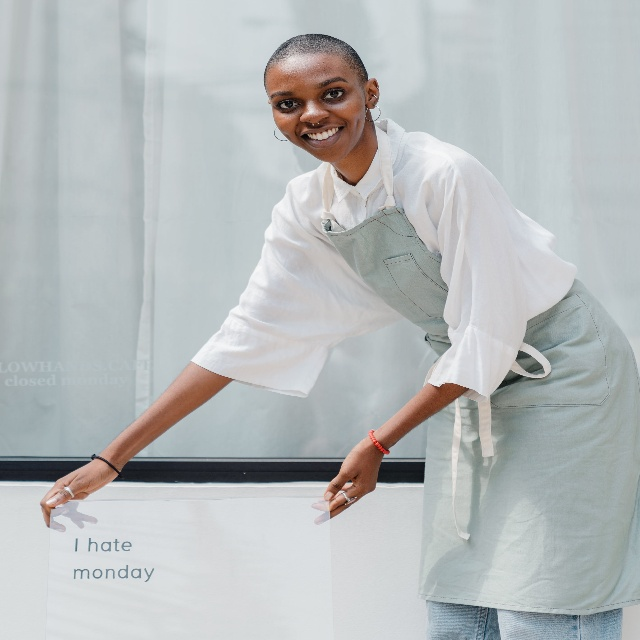Sin_guantes: (35, 446, 123, 527), (311, 442, 388, 523)
